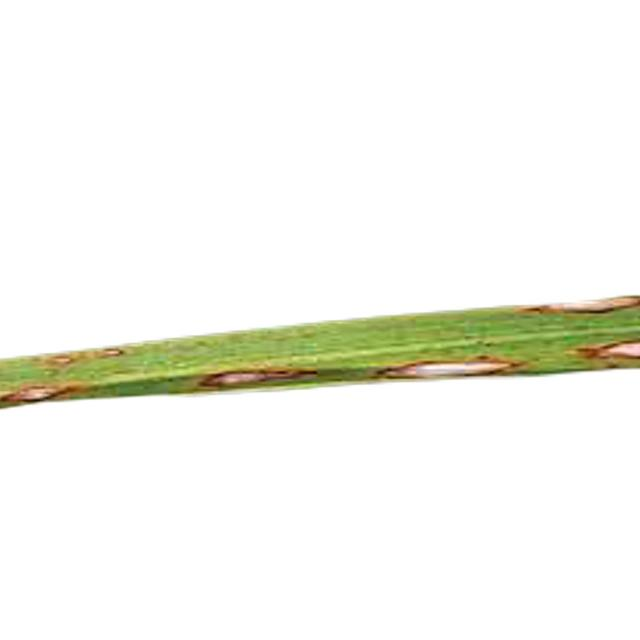Leaf blast: (0, 189, 640, 421)
